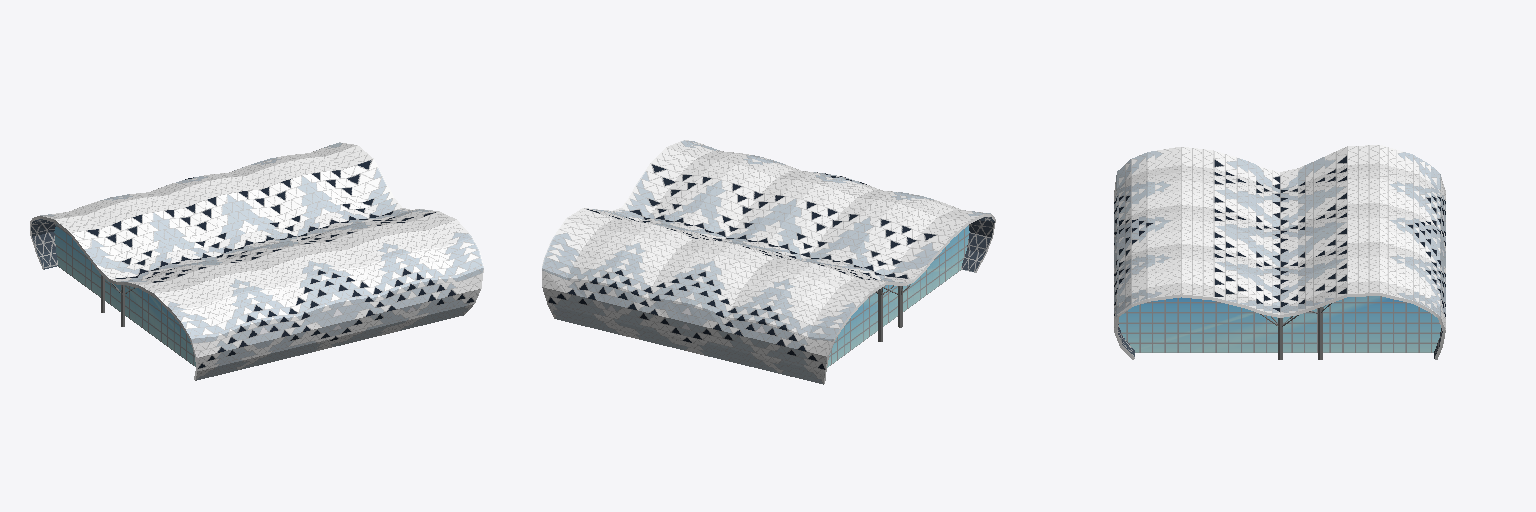
3 renders of one model, left to right at view 1: azimuth 30°, elevation 25°; view 2: azimuth 150°, elevation 25°; view 3: azimuth 270°, elevation 25°, orthographic.
Parts seen in each view (by area): view 1: ExhibitionCenter; view 2: ExhibitionCenter; view 3: ExhibitionCenter.
Boxes of the visible parts, x1=… form: ExhibitionCenter: x1=30, y1=142, x2=483, y2=380; ExhibitionCenter: x1=542, y1=140, x2=995, y2=384; ExhibitionCenter: x1=1114, y1=145, x2=1445, y2=359.
Bounding box in the file's own units: 319 × 76.51 × 301.
2 materials, 1 textured.